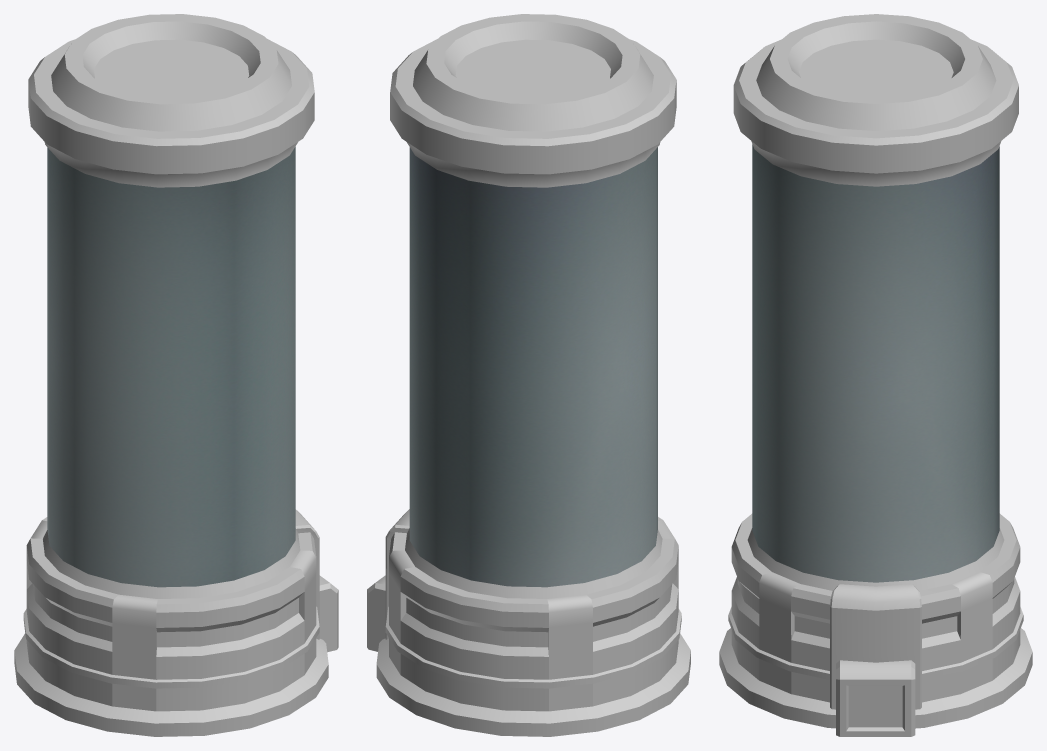
The model's file is Cryo_Tube.FBX.
The picture shows the model from 3 angles, left to right: view 1: azimuth 30°, elevation 25°; view 2: azimuth 150°, elevation 25°; view 3: azimuth 270°, elevation 25°; orthographic projection.
Parts seen in each view (by area): view 1: Cryo_Tube_Glass, Cryo_Tube_Bottom, Cryo_Tube_Top; view 2: Cryo_Tube_Glass, Cryo_Tube_Bottom, Cryo_Tube_Top; view 3: Cryo_Tube_Glass, Cryo_Tube_Bottom, Cryo_Tube_Top.
Part boxes in pixels (x1,y1,x2,y2): Cryo_Tube_Glass: (47,146,295,587); Cryo_Tube_Bottom: (14,509,338,736); Cryo_Tube_Top: (28,14,314,187); Cryo_Tube_Glass: (409,147,657,587); Cryo_Tube_Bottom: (367,509,690,736); Cryo_Tube_Top: (390,14,676,187); Cryo_Tube_Glass: (752,144,999,582); Cryo_Tube_Bottom: (719,513,1032,736); Cryo_Tube_Top: (733,14,1018,186).
Bounding box in the file's own units: 45.54 × 93.1 × 43.63.
